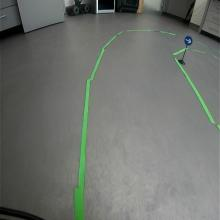right: (184, 34, 193, 46)
